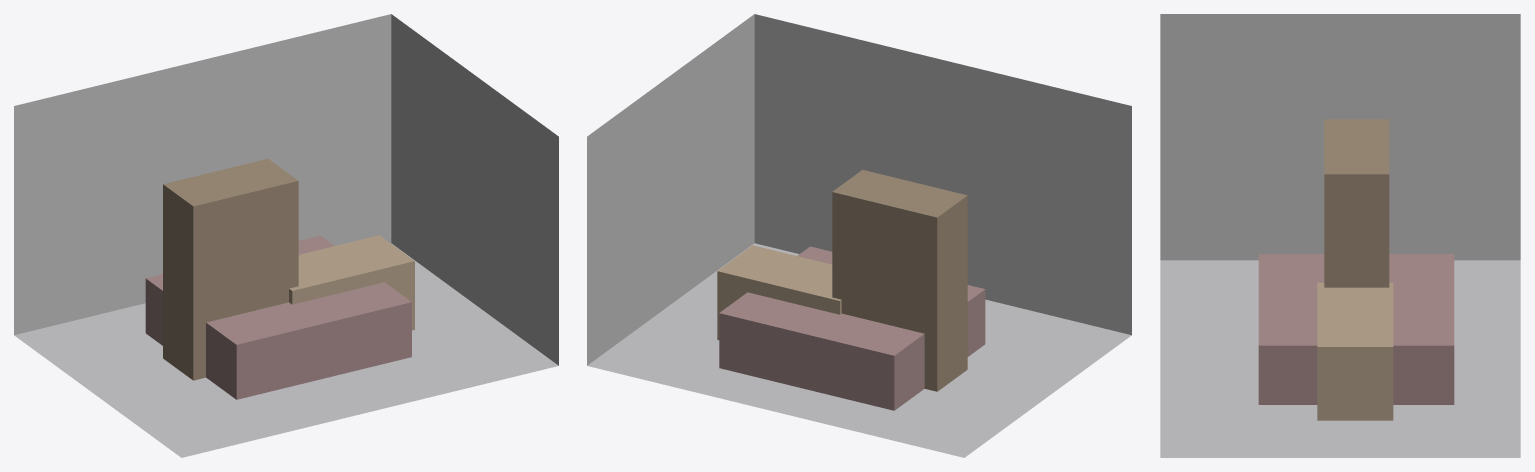
Rendered from current_layout.glb.
3 renders of one model, left to right at view 1: azimuth 30°, elevation 25°; view 2: azimuth 150°, elevation 25°; view 3: azimuth 270°, elevation 25°, orthographic. The views are drawn at different scales.
Visible parts, largest first — view 1: room, wardrobe, bed, desk; view 2: room, wardrobe, bed, desk; view 3: room, bed, wardrobe, desk.
Boxes of the visible parts, x1,y1,x2,y2 form: room: (14, 14, 558, 457); wardrobe: (163, 158, 298, 380); bed: (145, 235, 411, 399); desk: (289, 235, 414, 330); room: (587, 14, 1131, 457); wardrobe: (832, 170, 967, 391); bed: (719, 246, 985, 410); desk: (717, 245, 841, 340); room: (1160, 14, 1520, 457); bed: (1258, 254, 1454, 404); wardrobe: (1324, 119, 1389, 287); desk: (1317, 282, 1393, 420).
Size of the model in its own units: 4.31 by 2.5 by 3.31.
